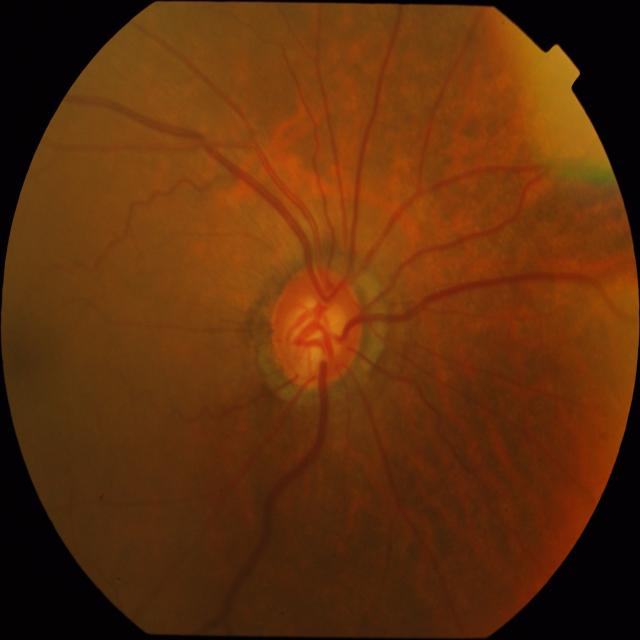OC: (286, 295, 346, 371)
OD: (269, 266, 365, 388)
